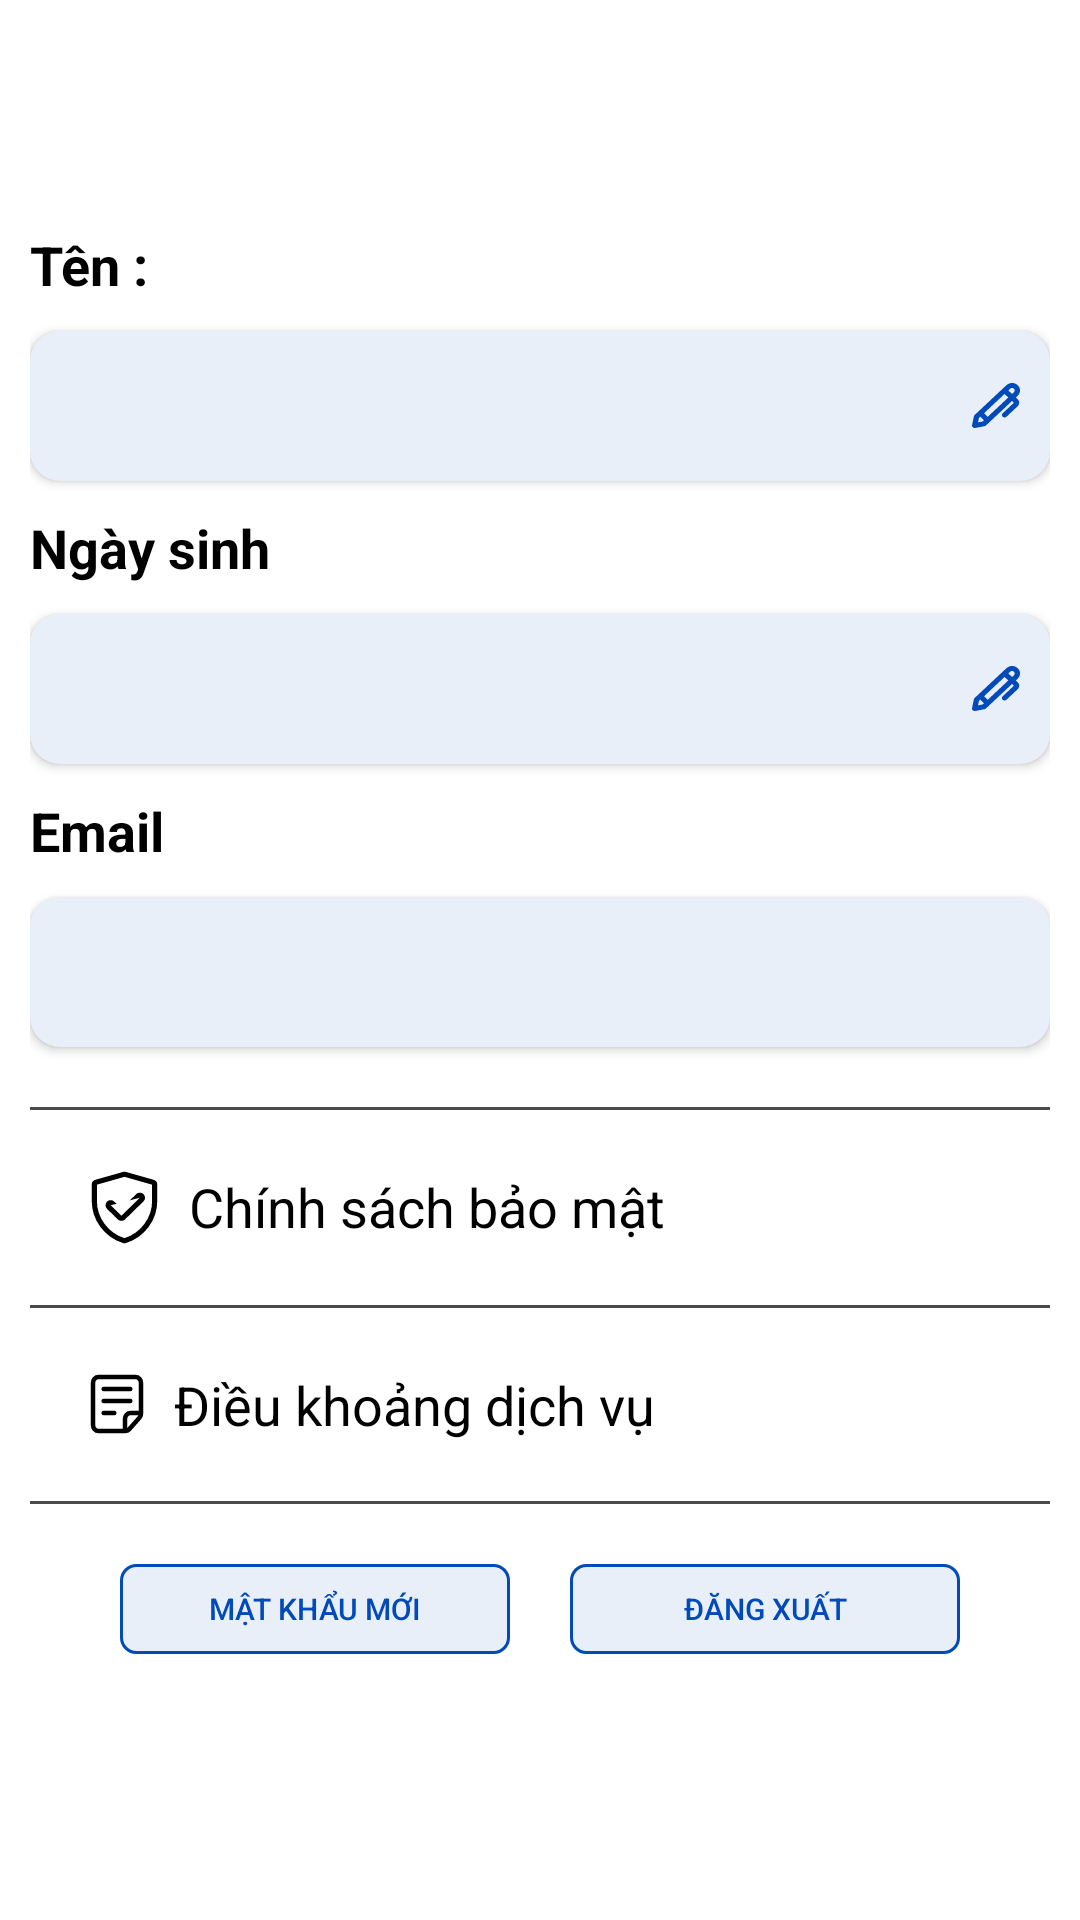

Icons on this 1080 x 1920 Android screen, each with its box as [x1,y1,x2,y2]:
pen: [972,383,1020,428], [972,666,1020,711]
